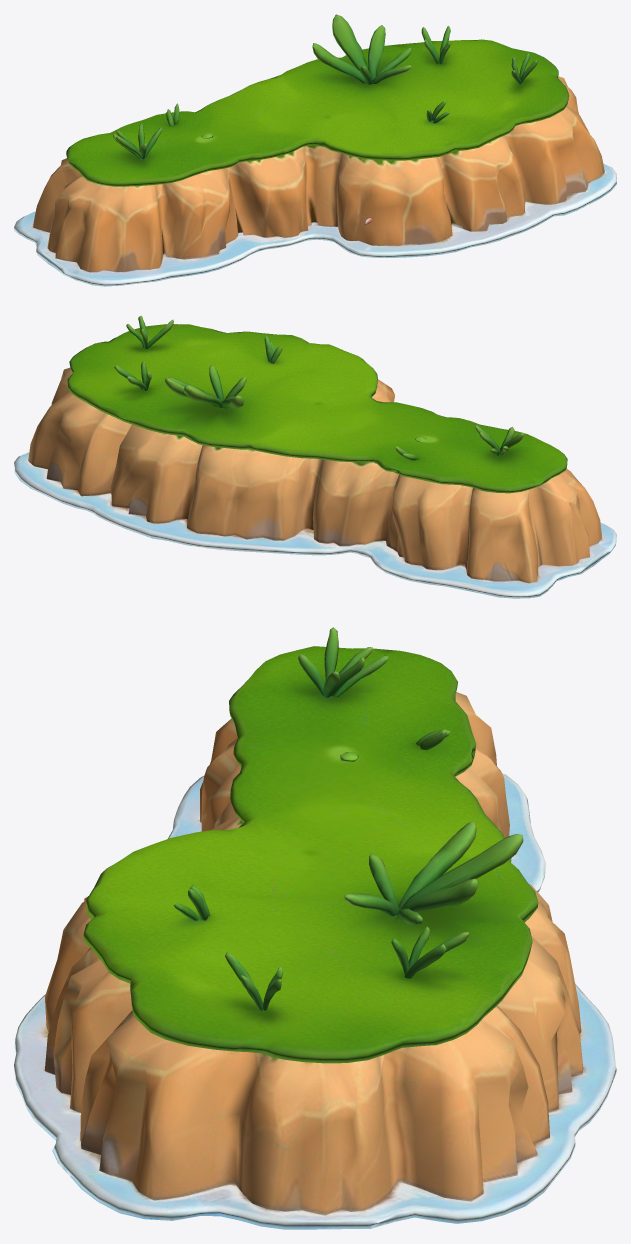
The model's file is s2_r2c6_grassy_coastal_islet.glb.
3 renders of one model, top to bottom at view 1: azimuth 30°, elevation 25°; view 2: azimuth 150°, elevation 25°; view 3: azimuth 270°, elevation 25°, orthographic. The views are drawn at different scales.
Bounding box in the file's own units: 1 × 0.2337 × 0.5511.
1 material, 1 textured.
